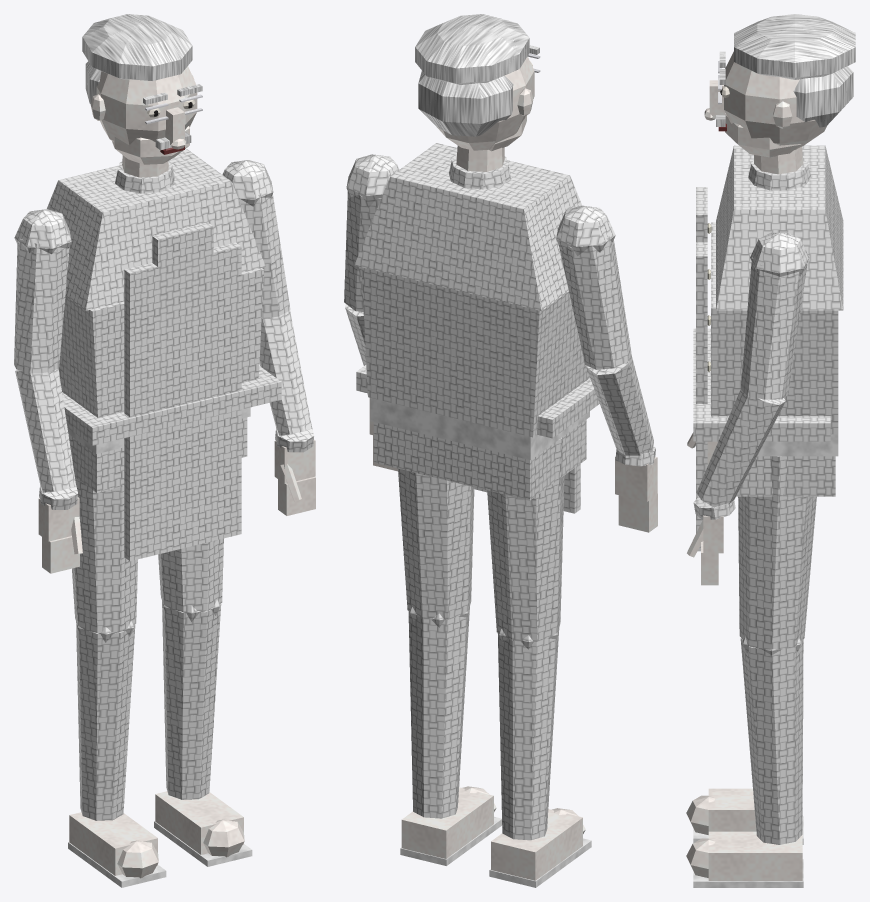
Rendered from padre.obj.
The picture shows the model from 3 angles, left to right: view 1: azimuth 30°, elevation 25°; view 2: azimuth 150°, elevation 25°; view 3: azimuth 270°, elevation 25°; orthographic projection. The views are drawn at different scales.
Visible parts, largest first — view 1: tessuto_003, tessuto_008, tessuto_000, pelle_007, pelle_001, capelli_018, gomma_002, tessuto_009, pelle_010; view 2: tessuto_003, tessuto_000, capelli_018, pelle_001, pelle_007, gomma_004, tessuto_008, gomma_002; view 3: tessuto_003, tessuto_000, pelle_007, capelli_018, pelle_001, tessuto_008, gomma_004, gomma_002, tessuto_009, pelle_010.
Part boxes in pixels (x1,y1,x2,y2): tessuto_003: (14,149,311,492); tessuto_008: (62,222,281,561); tessuto_000: (68,417,247,820); pelle_007: (38,66,315,573); pelle_001: (69,791,244,878); capelli_018: (82,14,192,104); gomma_002: (68,821,252,887); tessuto_009: (39,428,313,509); pelle_010: (165,107,185,149); tessuto_003: (344,143,653,455); tessuto_000: (373,419,586,840); capelli_018: (415,14,529,136); pelle_001: (401,786,585,880); pelle_007: (369,56,657,532); gomma_004: (370,398,589,460); tessuto_008: (356,365,599,513); gomma_002: (400,816,591,887); tessuto_003: (696,145,843,507); tessuto_000: (736,456,835,844); pelle_007: (687,51,826,585); capelli_018: (734,14,855,127); pelle_001: (686,788,802,880); tessuto_008: (693,187,830,551); gomma_004: (757,434,838,456); gomma_002: (693,816,803,887); tessuto_009: (693,496,735,519); pelle_010: (704,80,725,120).
Size of the model in its own units: 0.6368 by 1.82 by 0.3353.
Materials: 19 (14 with a texture image).
